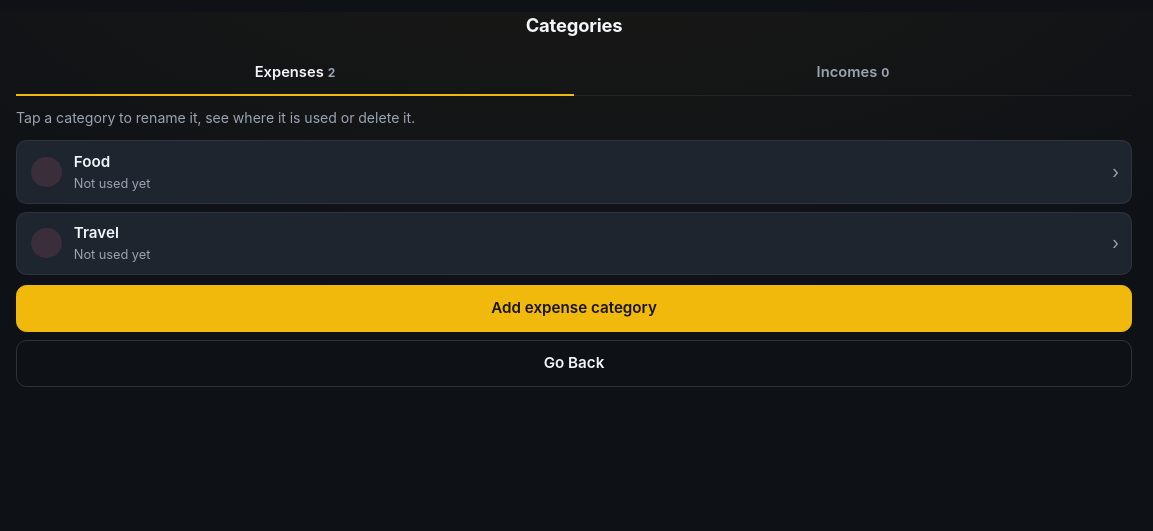
Test: Categories › shows the empty state on a type without categories
Click the tab "Incomes0": (853, 73) [574,50,1132,96]
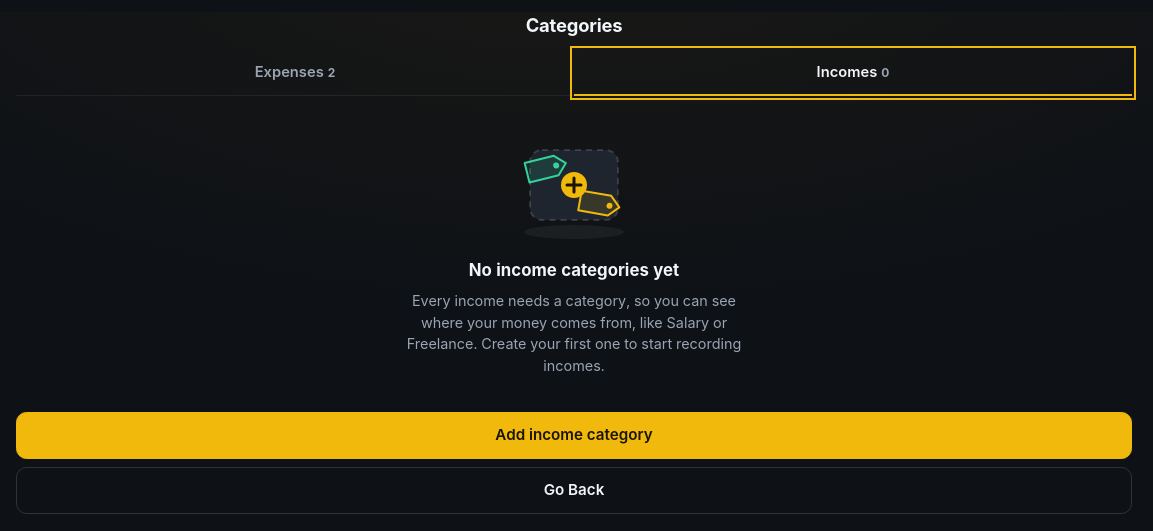
Check: the heading "No income categories yet" is shown, box [469,258,679,284]
Check: the button "Add income category" is shown, box [16,412,1132,459]
